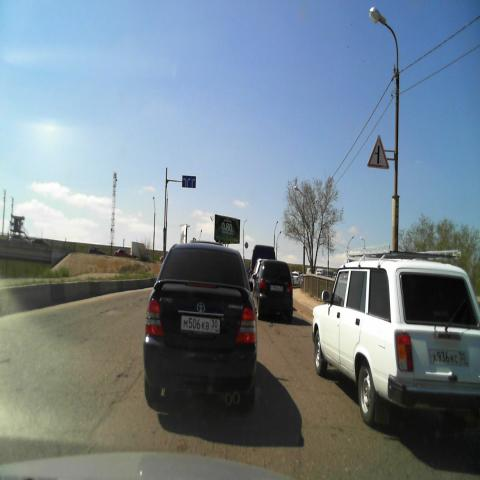2_3_3: (366, 134, 390, 169)
